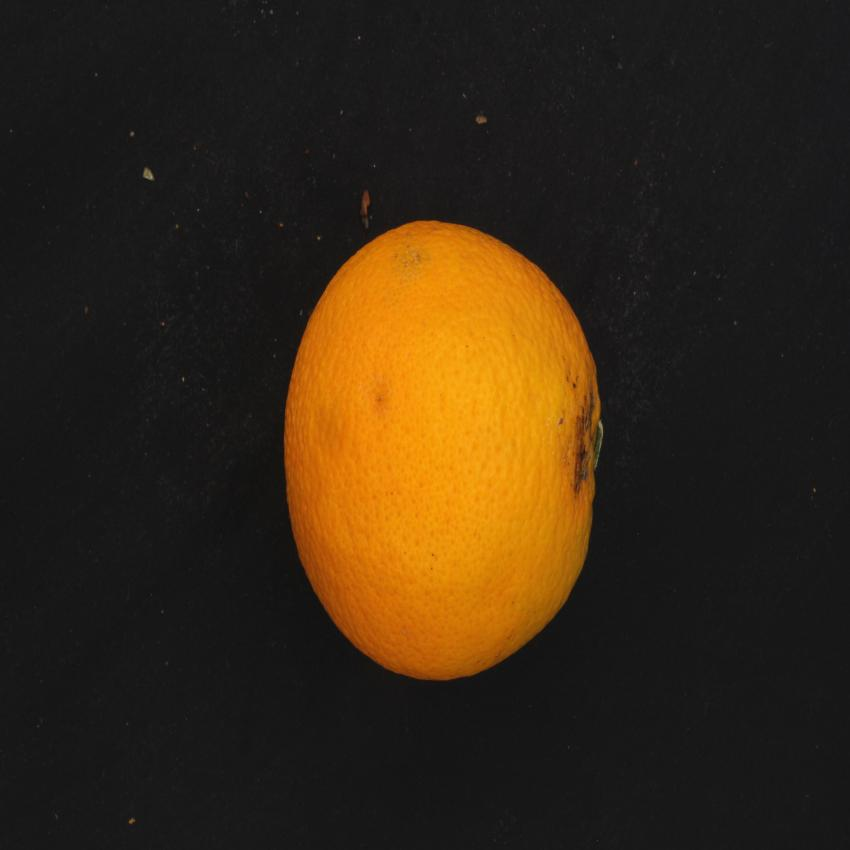Buen estado: (270, 210, 612, 690)
